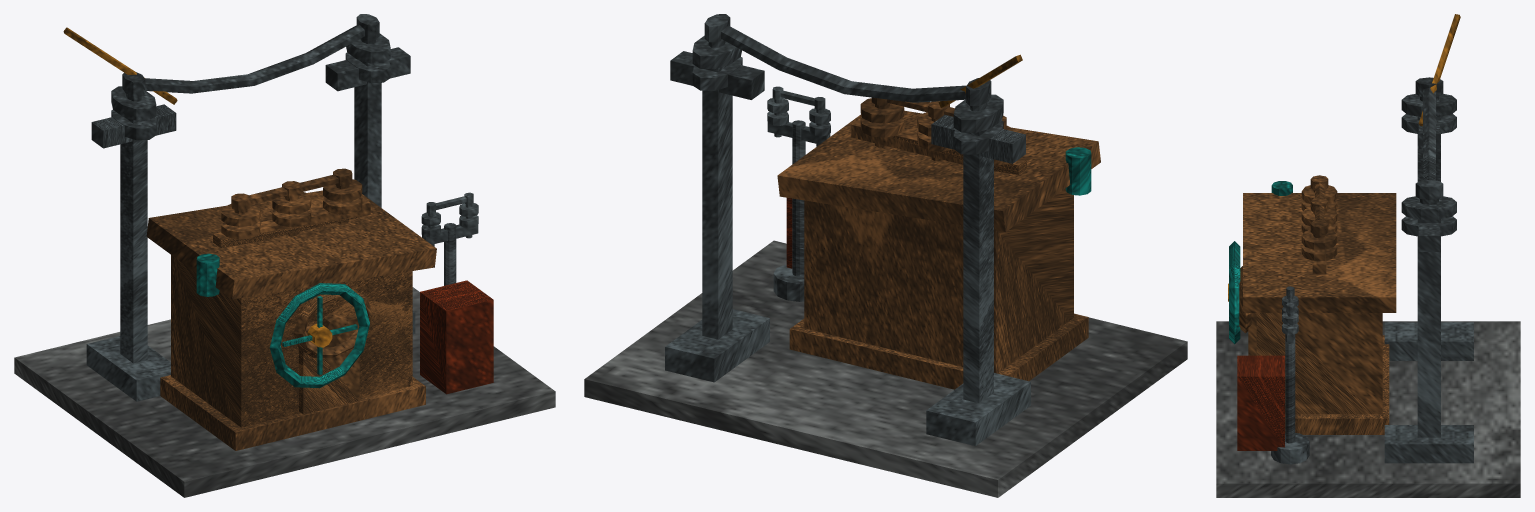
File: west-switchback-line-house.glb
The picture shows the model from 3 angles, left to right: view 1: azimuth 30°, elevation 25°; view 2: azimuth 150°, elevation 25°; view 3: azimuth 270°, elevation 25°; orthographic projection. The views are drawn at different scales.
Visible parts, largest first — view 1: west-switchback-line-house; view 2: west-switchback-line-house; view 3: west-switchback-line-house.
Boxes of the visible parts, x1,y1,x2,y2 form: west-switchback-line-house: [14, 14, 555, 497]; west-switchback-line-house: [584, 14, 1187, 497]; west-switchback-line-house: [1216, 14, 1520, 497].
Size of the model in its own units: 5.8 by 5.48 by 4.6.
1 material, 1 textured.
